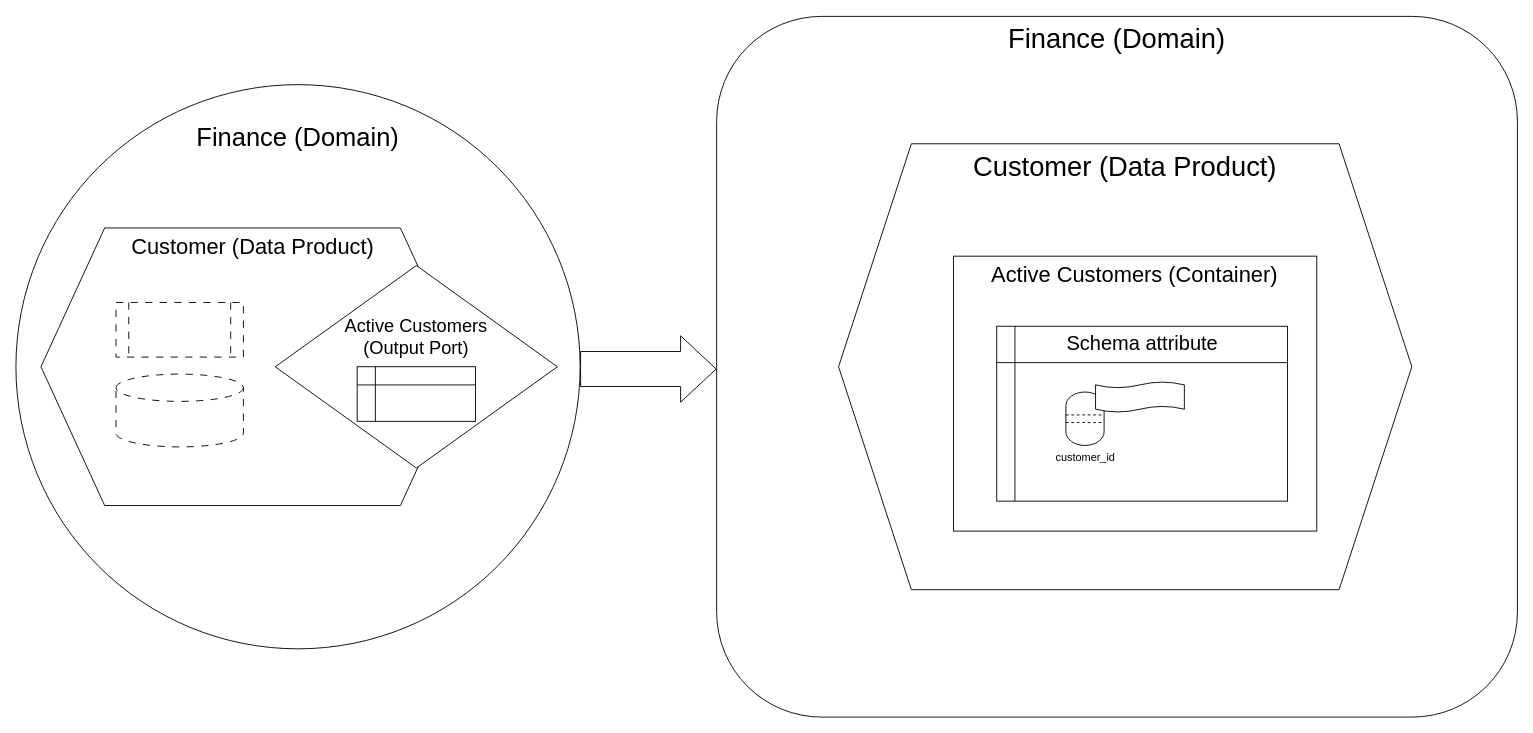
The diagram is 1533 pixels wide and 733 high, and some of its shapes have lost their labels. Grey dashed boxes stand in for pictures. The shapes that lost their labels are listed below. From the top down, each one's centre as x and y in pixels, then its label:
(179,329): Workload
(179,410): Storage Area
(415,393): Data Contract
(1139,396): Business Term
